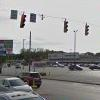Traffic light: (18, 10, 31, 35)
